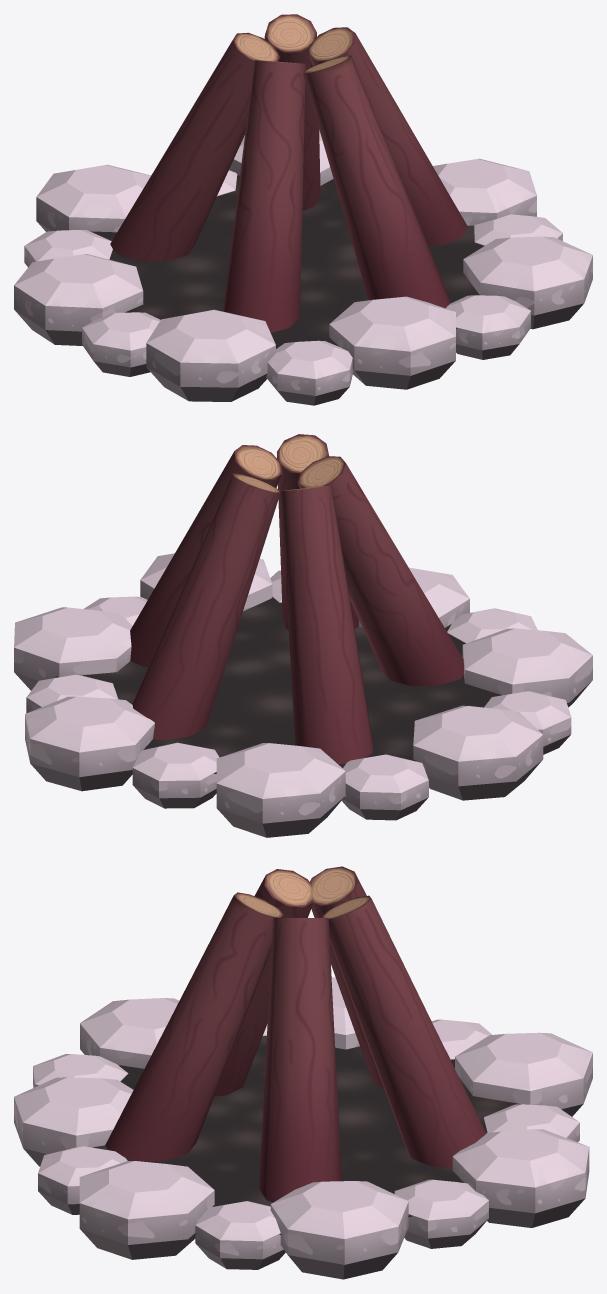
File: Firecamp.fbx
The picture shows the model from 3 angles, top to bottom: view 1: azimuth 30°, elevation 25°; view 2: azimuth 150°, elevation 25°; view 3: azimuth 270°, elevation 25°; orthographic projection. The views are drawn at different scales.
Parts seen in each view (by area): view 1: Camp fire; view 2: Camp fire; view 3: Camp fire.
Boxes of the visible parts, box(x1,y1,x2,y2) form: Camp fire: box(14, 14, 592, 405); Camp fire: box(14, 434, 592, 837); Camp fire: box(14, 866, 592, 1279).
Bounding box in the file's own units: 383 × 193 × 359.
